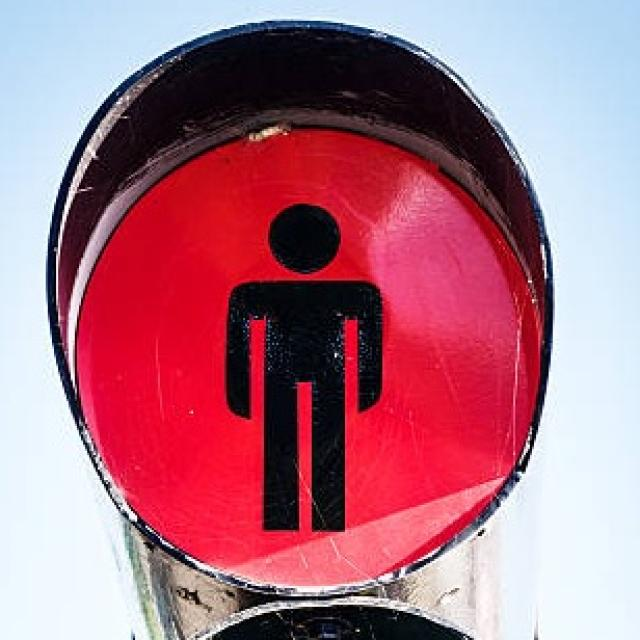red_light: (198, 154, 403, 565)
